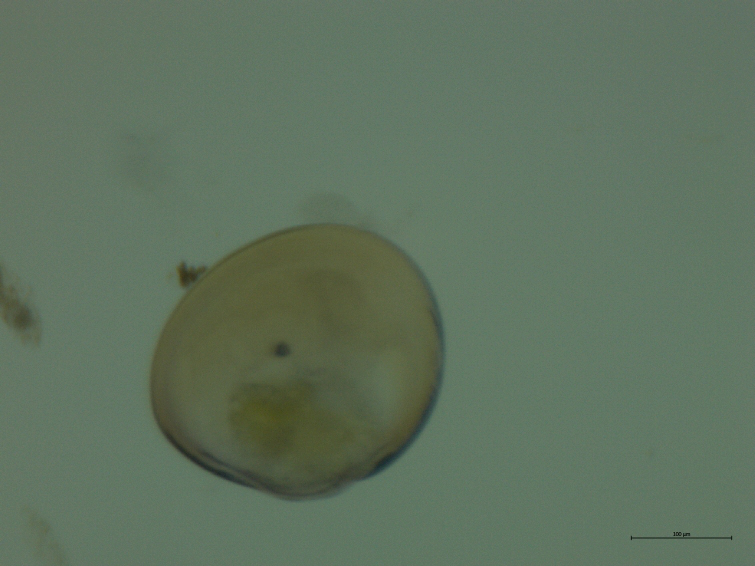oyster: (139, 215, 459, 516)
